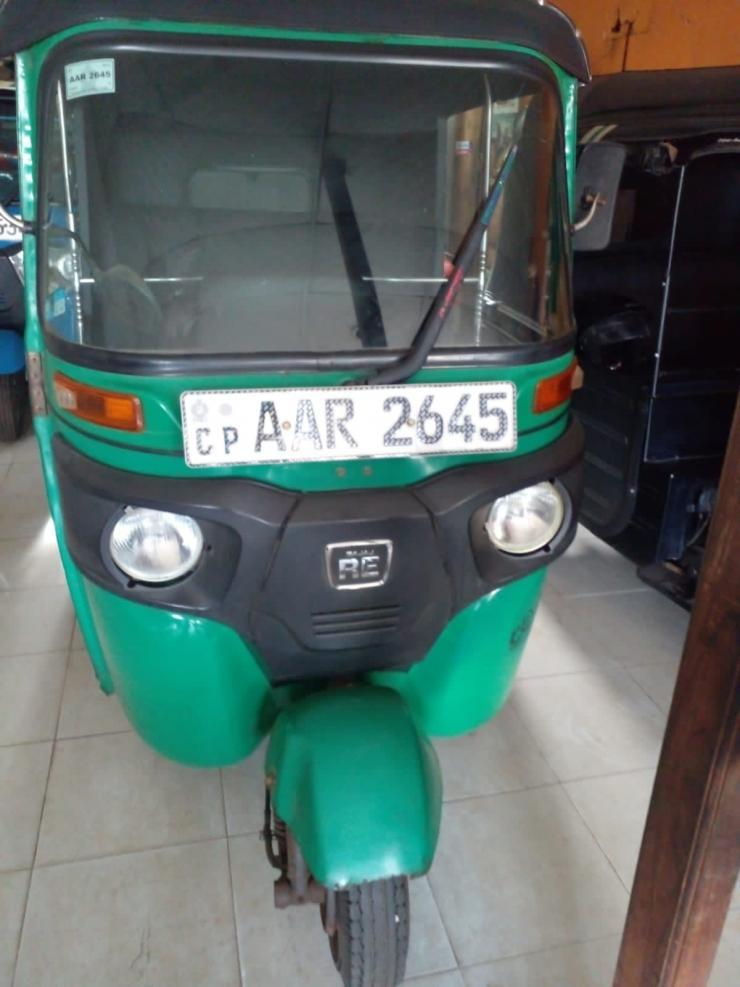threewheel: (12, 1, 625, 987)
